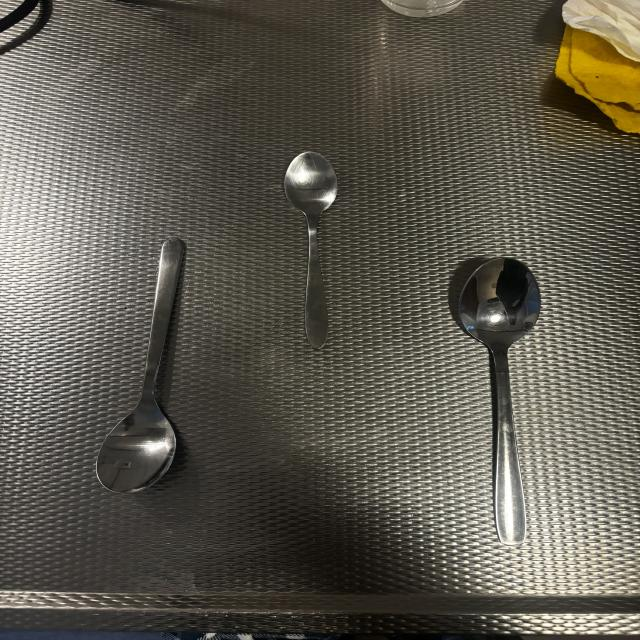spoon: (451, 257, 543, 549), (96, 237, 187, 491), (283, 151, 339, 355)
